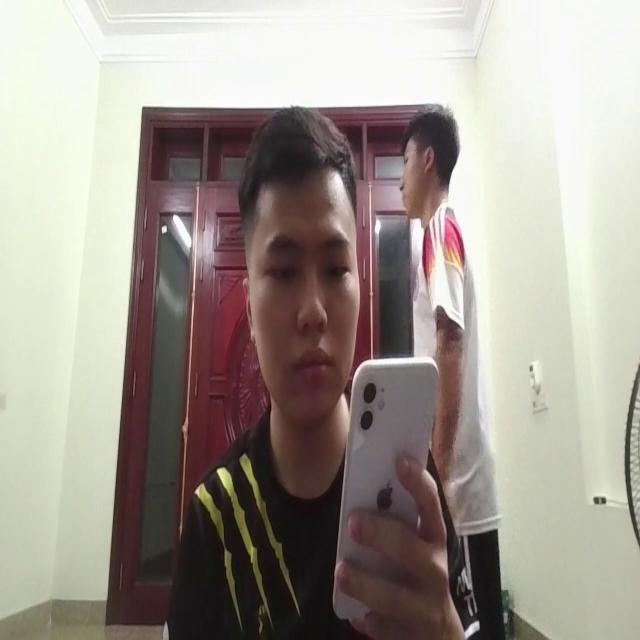extra_person: (398, 100, 496, 582)
phone: (329, 352, 434, 622)
student: (158, 108, 428, 640)
